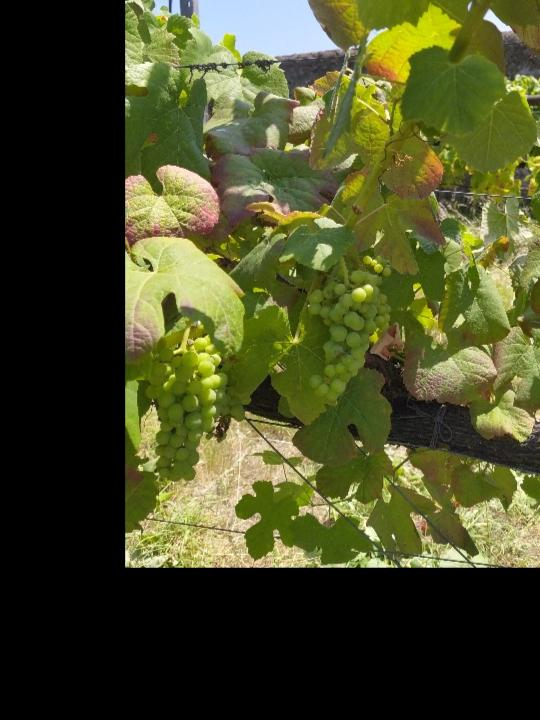grape: (142, 326, 224, 486), (306, 254, 394, 402)
